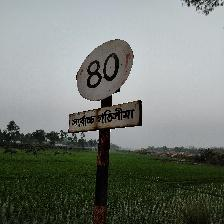Speed-limit: (69, 38, 141, 133)
